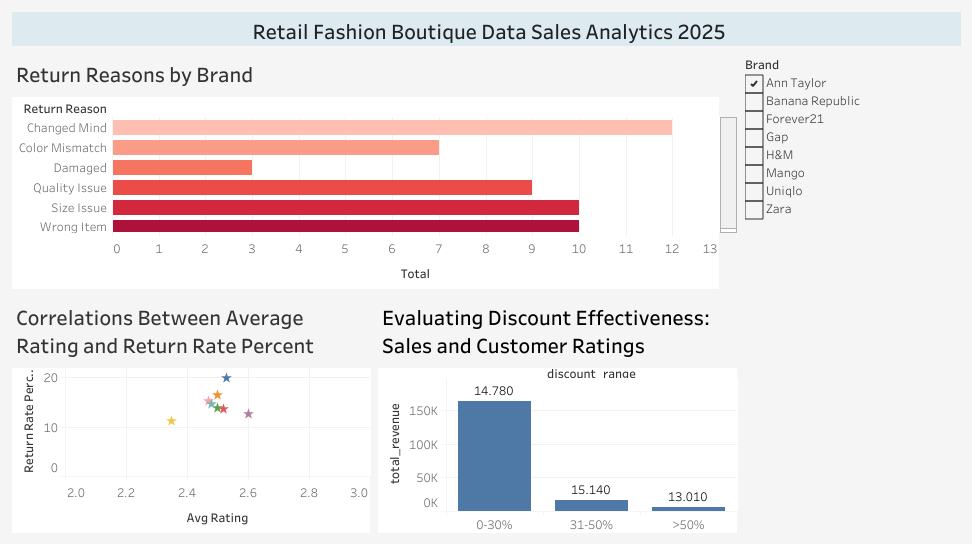

The page's visual inventory and layout, read from the dashboard file:
{"tool":"tableau","page":{"name":"Dashboard 1","canvas":[1000,1000],"units":"permille","ordinal":0},"visuals":[{"type":"worksheet","title":"Sheet 7","mark":"Square","rows":["brand","stock_status","discount_range"],"cols":["category"],"box":[6.8,14.5,608.9,305.3]},{"type":"worksheet","title":"Sheet 1","mark":"Automatic","rows":["return_reason"],"cols":["total"],"box":[615.7,14.5,377.4,485.5]},{"type":"worksheet","title":"Sheet 4","mark":"Automatic","cols":["brand","season"],"box":[6.8,319.8,397.8,346.9]},{"type":"worksheet","title":"Sheet 6","mark":"Automatic","rows":["discount - Split 3"],"cols":["discount - Split 1"],"box":[404.6,319.8,211.1,346.9]},{"type":"worksheet","title":"Sheet 2","mark":"Automatic","rows":["return_rate_percent"],"cols":["avg_rating"],"box":[615.7,500,377.4,485.5]},{"type":"worksheet","title":"Sheet 5","mark":"Automatic","rows":["total_revenue"],"cols":["month"],"box":[6.8,666.7,608.9,318.8]}]}

Visuals, with their boxes on the dashboard's canvas, which has no fixed pixel size, in thousandths of its width and height (x1, y1, x2, y2). These are canvas units, not pixel positions in the 972x544 screenshot, which may show the page scaled, cropped or inside an application window:
"Sheet 7" worksheet (Square marks): 7:14:616:320
"Sheet 1" worksheet: 616:14:993:500
"Sheet 4" worksheet: 7:320:405:667
"Sheet 6" worksheet: 405:320:616:667
"Sheet 2" worksheet: 616:500:993:986
"Sheet 5" worksheet: 7:667:616:986
